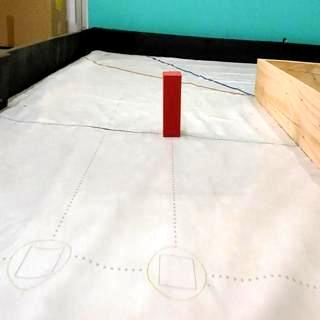redbox: (162, 69, 182, 139)
